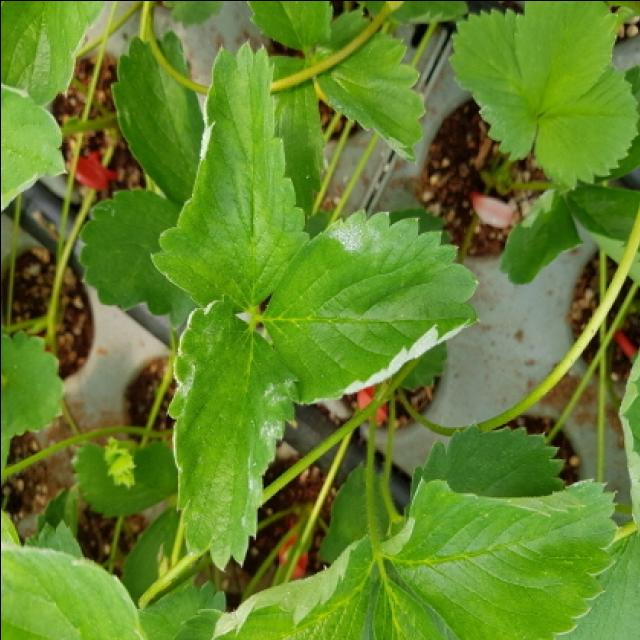Powdery Mildew Leaf: (148, 39, 310, 308), (262, 208, 481, 403), (165, 293, 300, 570)
